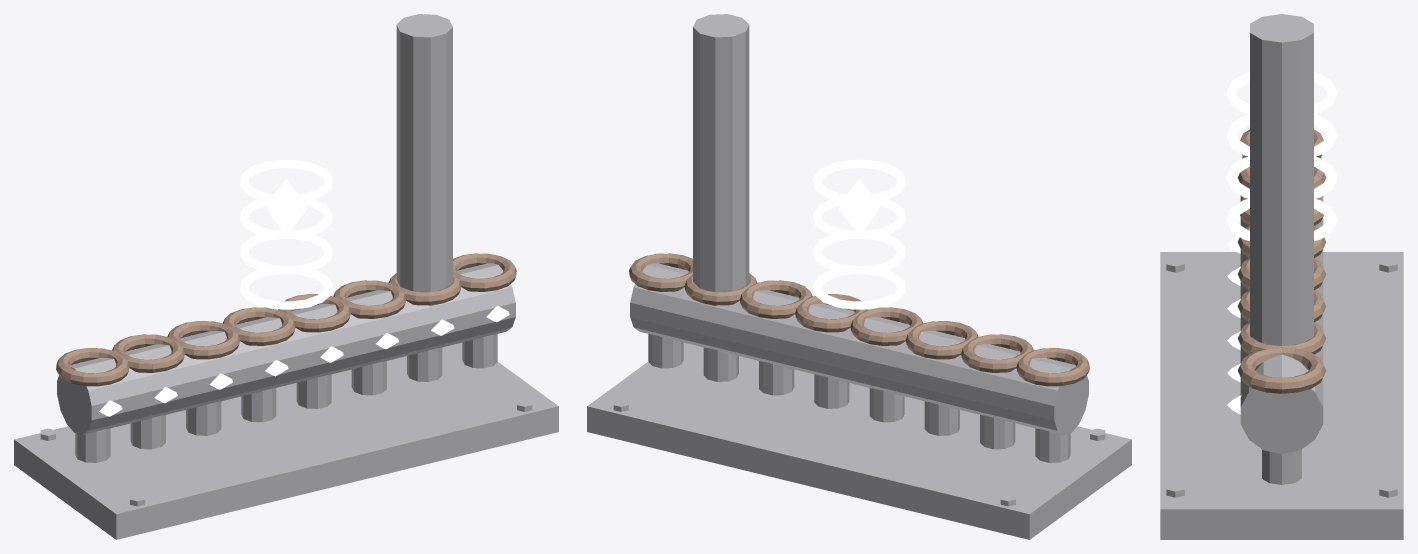
Rendered from pipeline_divine.glb.
3 views of the same model, side by side, from view 1: azimuth 30°, elevation 25°; view 2: azimuth 150°, elevation 25°; view 3: azimuth 270°, elevation 25° (orthographic). The views are drawn at different scales.
Parts seen in each view (by area): view 1: pipeline; view 2: pipeline; view 3: pipeline.
Part boxes in pixels (bbox=[...]): pipeline: bbox=[14, 14, 558, 539]; pipeline: bbox=[587, 14, 1131, 539]; pipeline: bbox=[1160, 14, 1403, 539].
Bounding box in the file's own units: 2.94 × 2.42 × 1.15.
